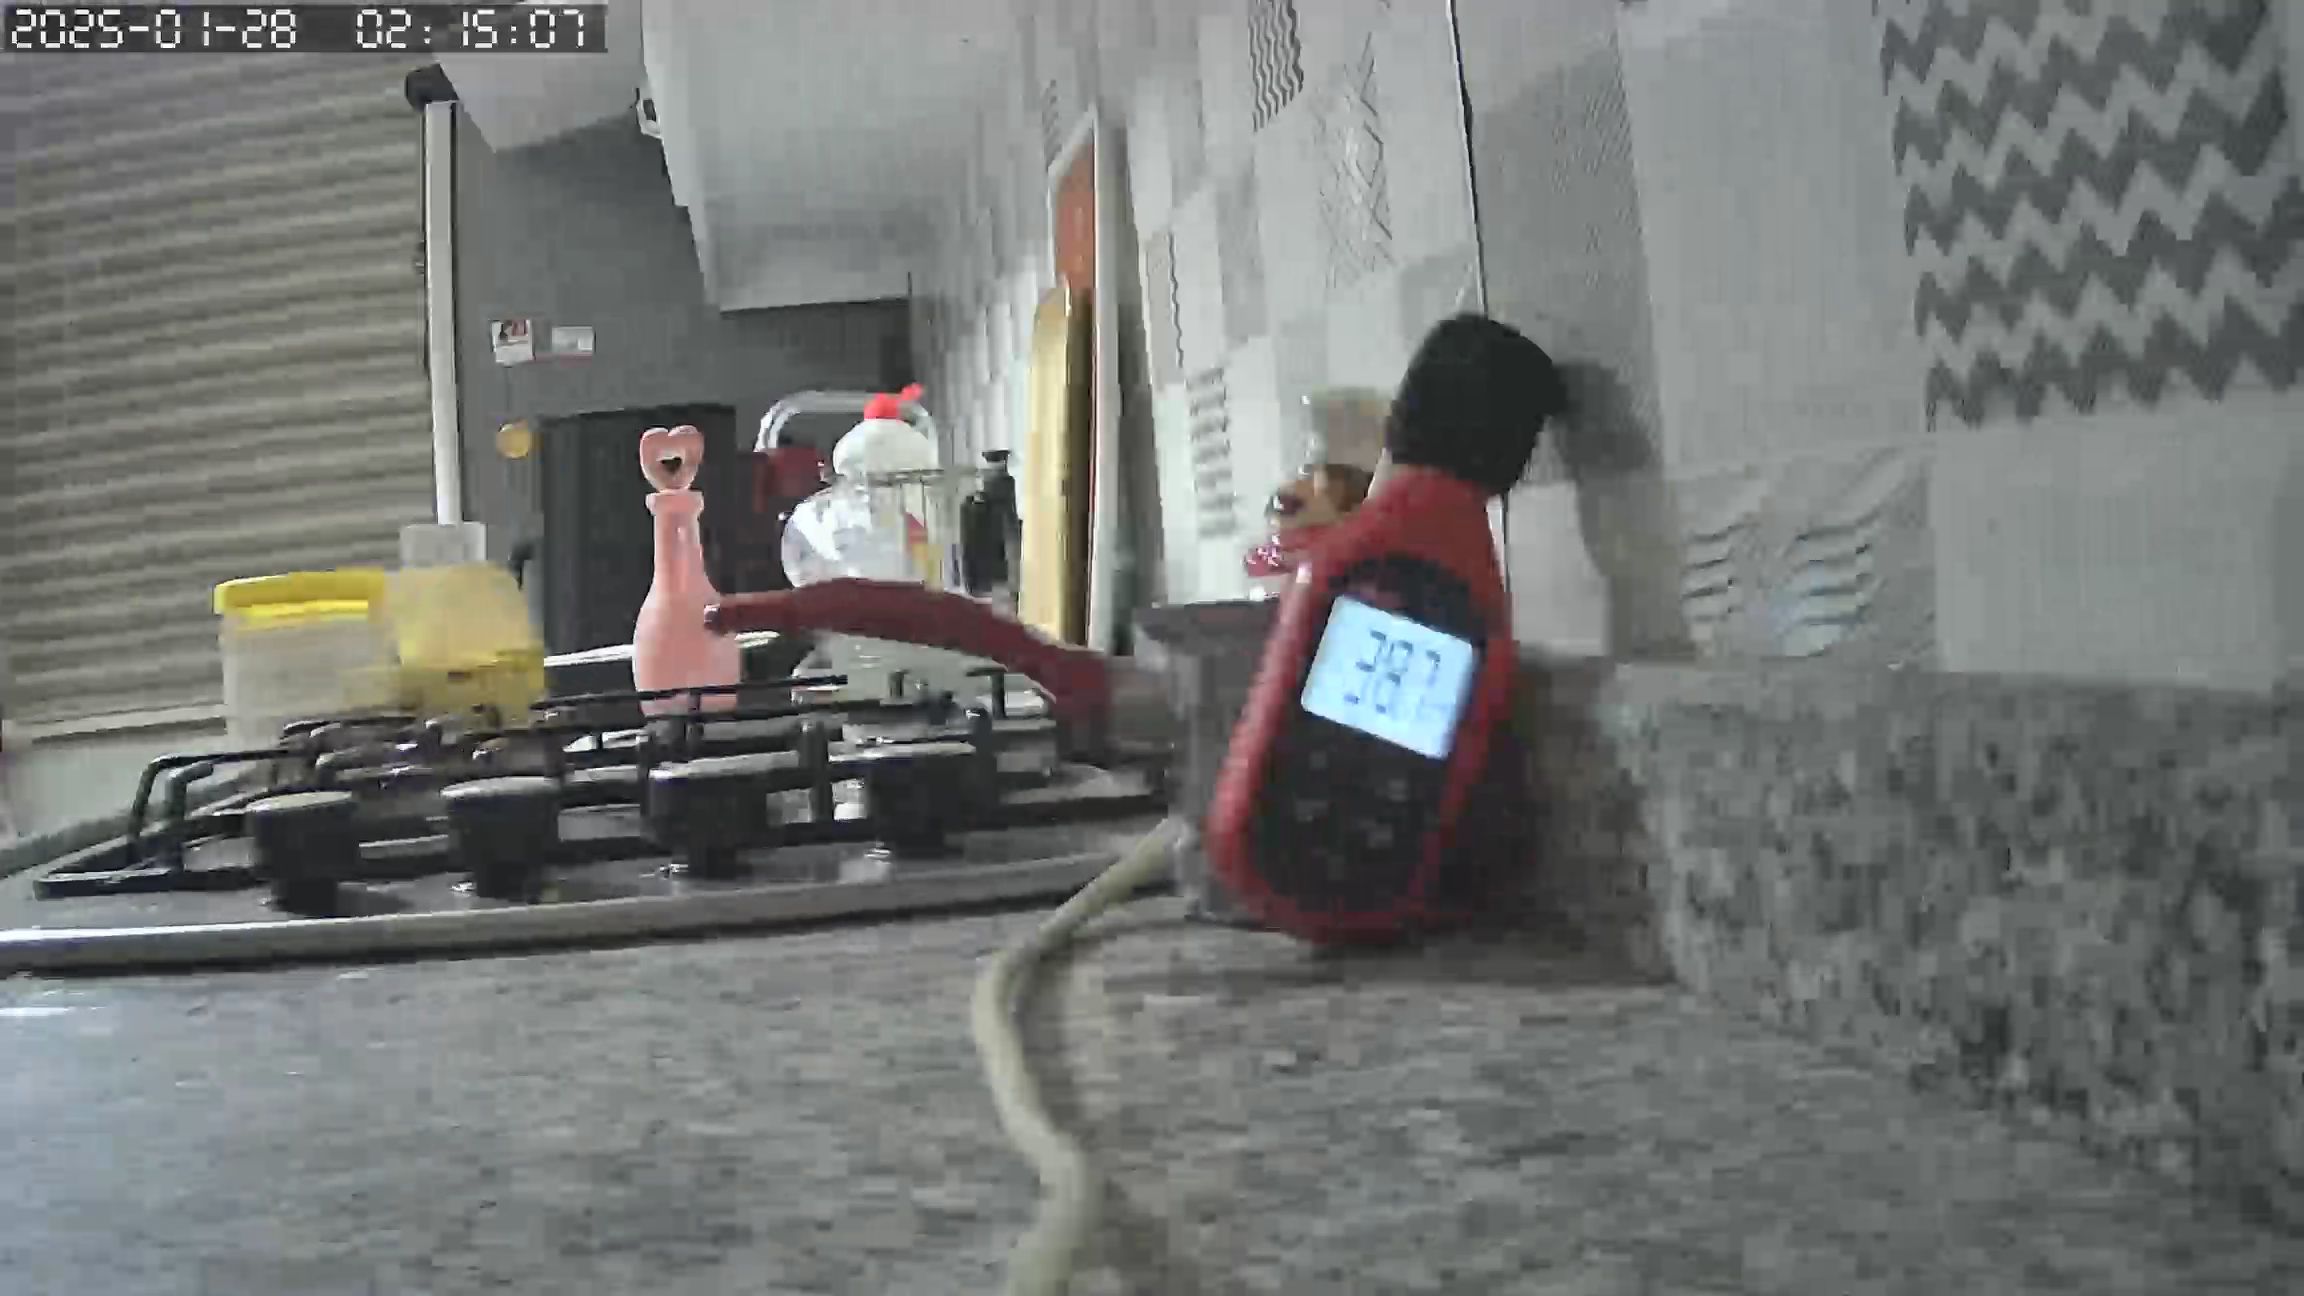screen: (1296, 590, 1478, 764)
